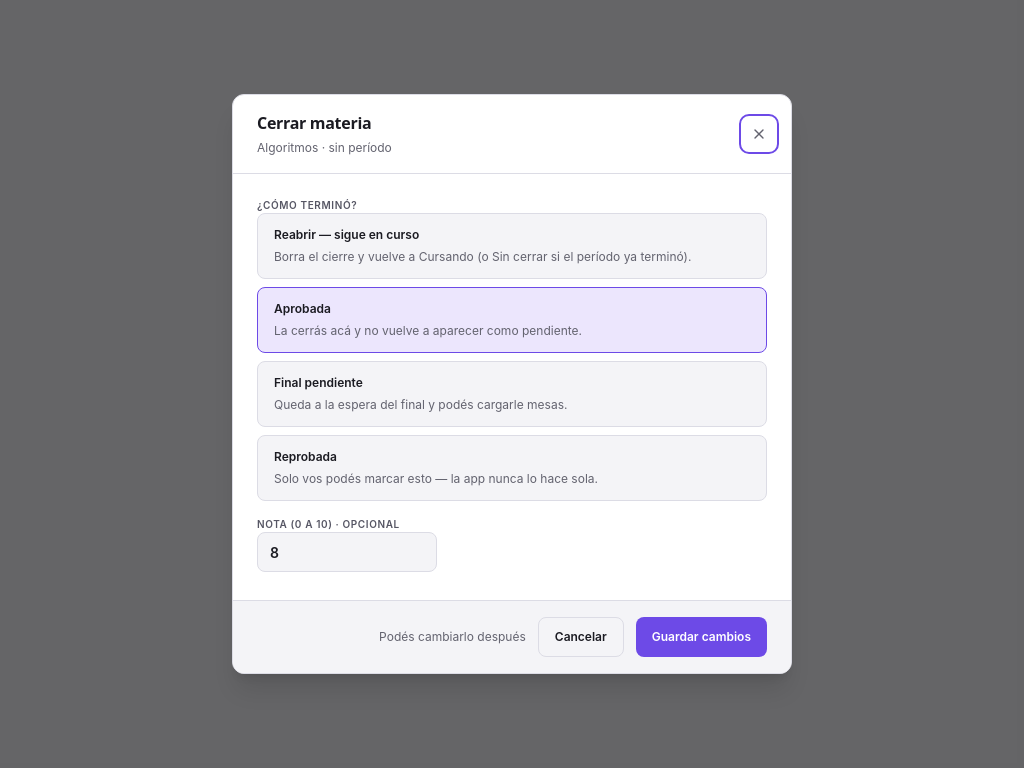
Test case: CerrarMateriaModal — reopen option › selecting it on a closed graded subject warns the closure and its nota go
The width and height of the screenshot is (1024, 768).
Step 1. Click the button "Reabrir" → (512, 246), box [257,213,767,279]
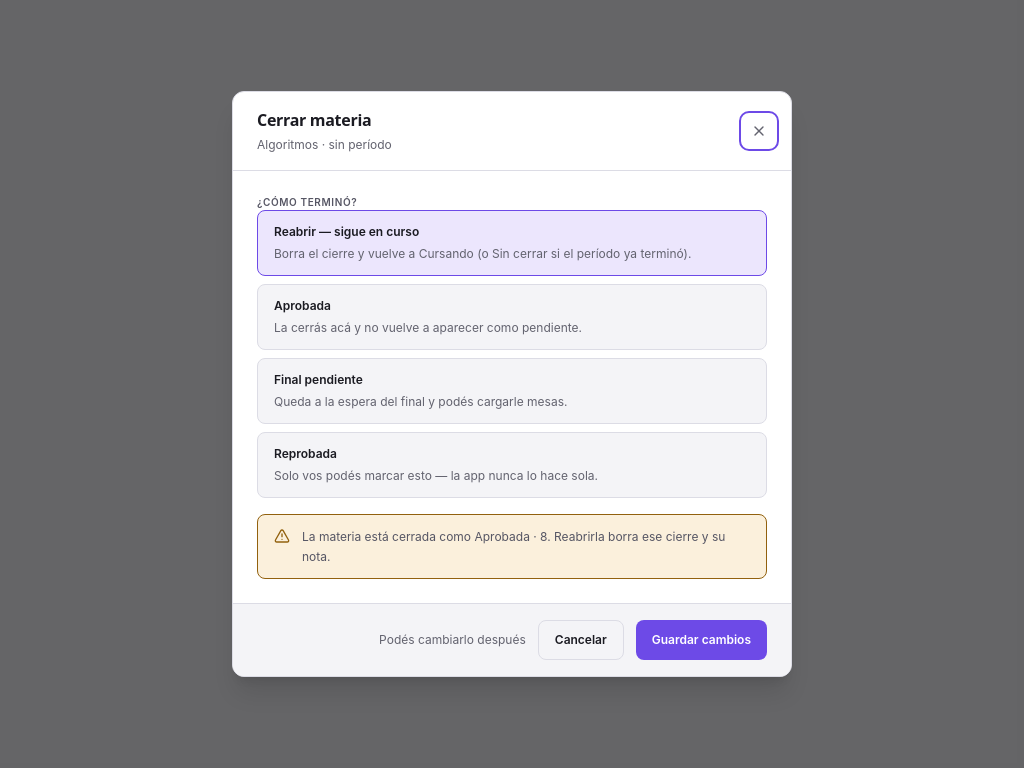
Expected: the text "La materia está cerrada como Aprobada · 8. Reabrirla borra ese cierre y su nota." is shown, [302,527,750,566]
